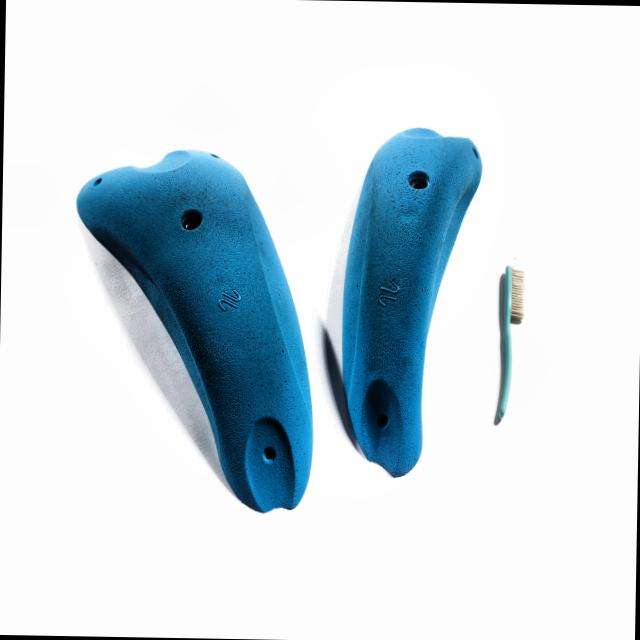Hold: (76, 150, 324, 520), (333, 122, 488, 484)
